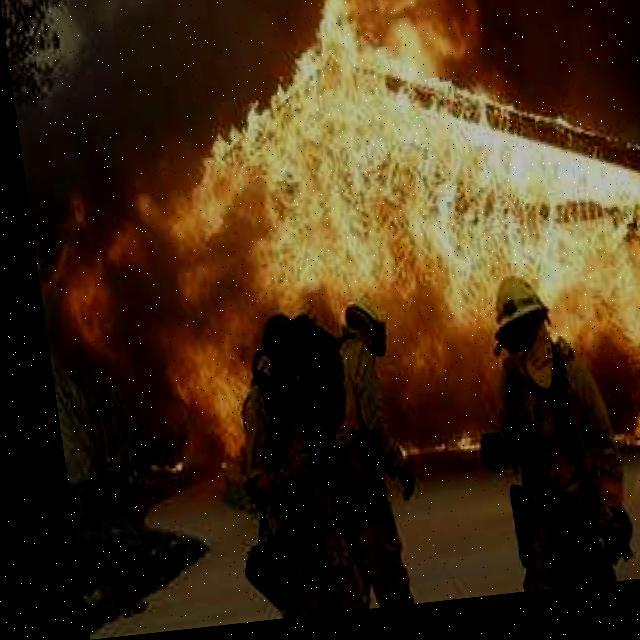Fire: (133, 0, 639, 500)
